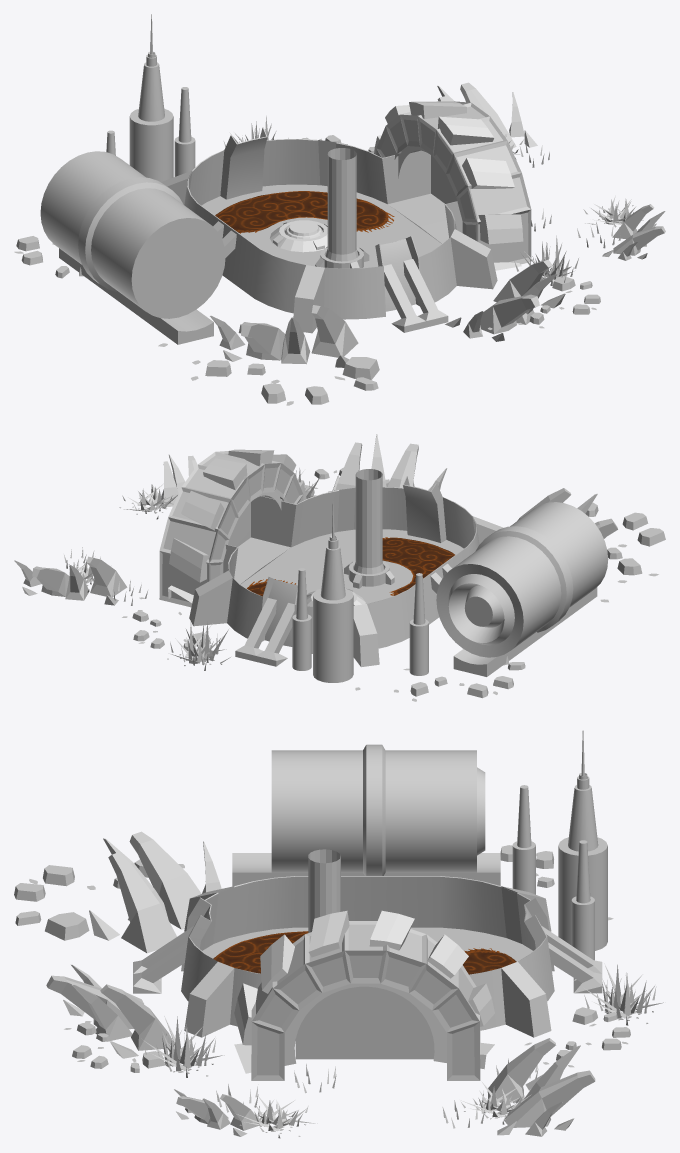
File: BastionInterior.fbx
3 views of the same model, one above another, from view 1: azimuth 30°, elevation 25°; view 2: azimuth 150°, elevation 25°; view 3: azimuth 270°, elevation 25° (orthographic). The views are drawn at different scales.
Parts seen in each view (by area): view 1: Sphere.002, Cylinder.002, Icosphere.001, Cylinder.001, Gear.001, Cube.003, Sphere.001, TexturaPisoHome.000, Cube.014, Luz, Cube.013, Cube.000 (+8 smaller); view 2: Sphere.002, Cylinder.002, Cylinder.001, Icosphere.001, Sphere.001, Gear.001, Cube.008, Luz, Cube.015, TexturaPisoHome.001, Cube.014, Cube.013 (+7 smaller); view 3: Sphere.002, Cylinder.002, Icosphere.001, Gear.001, Cylinder.001, Cube.003, Cube.008, Cube.014, Cube.013, Sphere.001, Luz, Cube.015 (+11 smaller).
Boxes of the visible parts, left/top/right/bottom form: Sphere.002: left=161, top=127, right=497, bottom=333; Cylinder.002: left=40, top=151, right=225, bottom=344; Icosphere.001: left=376, top=101, right=531, bottom=264; Cylinder.001: left=106, top=14, right=195, bottom=182; Gear.001: left=374, top=101, right=523, bottom=270; Cube.003: left=210, top=305, right=358, bottom=367; Sphere.001: left=201, top=184, right=441, bottom=267; TexturaPisoHome.000: left=215, top=191, right=394, bottom=233; Cube.014: left=445, top=259, right=565, bottom=341; Luz: left=327, top=148, right=356, bottom=254; Cube.013: left=158, top=343, right=379, bottom=405; Cube.000: left=384, top=259, right=448, bottom=332; Sphere.002: left=189, top=476, right=503, bottom=667; Cylinder.002: left=436, top=502, right=608, bottom=676; Cylinder.001: left=292, top=500, right=428, bottom=682; Icosphere.001: left=159, top=451, right=303, bottom=607; Sphere.001: left=241, top=529, right=463, bottom=603; Gear.001: left=168, top=449, right=306, bottom=602; Cube.008: left=14, top=556, right=127, bottom=605; Luz: left=355, top=469, right=382, bottom=567; Cube.015: left=235, top=598, right=294, bottom=666; TexturaPisoHome.001: left=382, top=537, right=454, bottom=595; Cube.014: left=332, top=434, right=447, bottom=490; Cube.013: left=585, top=502, right=665, bottom=602; Sphere.002: left=181, top=876, right=554, bottom=1059; Cylinder.002: left=232, top=744, right=500, bottom=886; Icosphere.001: left=251, top=921, right=480, bottom=1080; Gear.001: left=234, top=910, right=494, bottom=1073; Cylinder.001: left=512, top=730, right=607, bottom=960; Cube.003: left=89, top=831, right=221, bottom=953; Cube.008: left=487, top=1038, right=595, bottom=1136; Cube.014: left=46, top=964, right=174, bottom=1058; Cube.013: left=14, top=859, right=184, bottom=940; Sphere.001: left=202, top=927, right=532, bottom=961; Luz: left=308, top=849, right=340, bottom=932; Cube.015: left=541, top=926, right=602, bottom=993.
Size of the model in its own units: 834 by 300 by 796.
